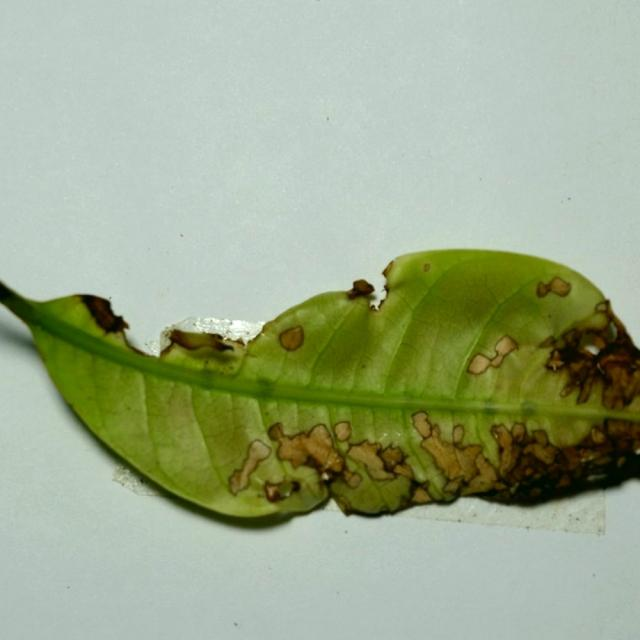Anthracnose: (411, 411, 502, 494), (267, 420, 345, 479), (490, 422, 552, 483), (568, 421, 634, 474), (344, 435, 409, 485), (598, 350, 637, 408), (465, 334, 520, 375), (227, 440, 266, 494), (419, 431, 462, 476), (80, 295, 129, 334), (165, 329, 233, 354), (552, 342, 592, 378), (602, 417, 637, 453), (272, 323, 308, 352), (555, 442, 589, 471), (491, 423, 514, 456), (263, 480, 297, 502), (493, 334, 519, 360), (576, 374, 597, 405), (411, 410, 434, 438), (466, 353, 493, 375), (545, 350, 566, 372), (248, 440, 271, 460), (584, 333, 608, 352), (409, 486, 434, 504), (228, 471, 246, 495), (550, 277, 571, 296), (333, 421, 352, 441), (442, 477, 463, 495), (578, 346, 599, 363), (334, 494, 352, 513), (590, 426, 608, 444), (268, 422, 285, 440), (511, 422, 526, 442), (353, 280, 374, 294), (532, 429, 549, 446), (559, 382, 577, 398), (539, 334, 557, 349), (382, 259, 396, 278), (452, 424, 464, 444), (536, 281, 550, 298), (595, 300, 610, 313), (346, 287, 362, 299), (290, 481, 301, 493), (423, 262, 431, 272)
Mango: (0, 250, 639, 531)
